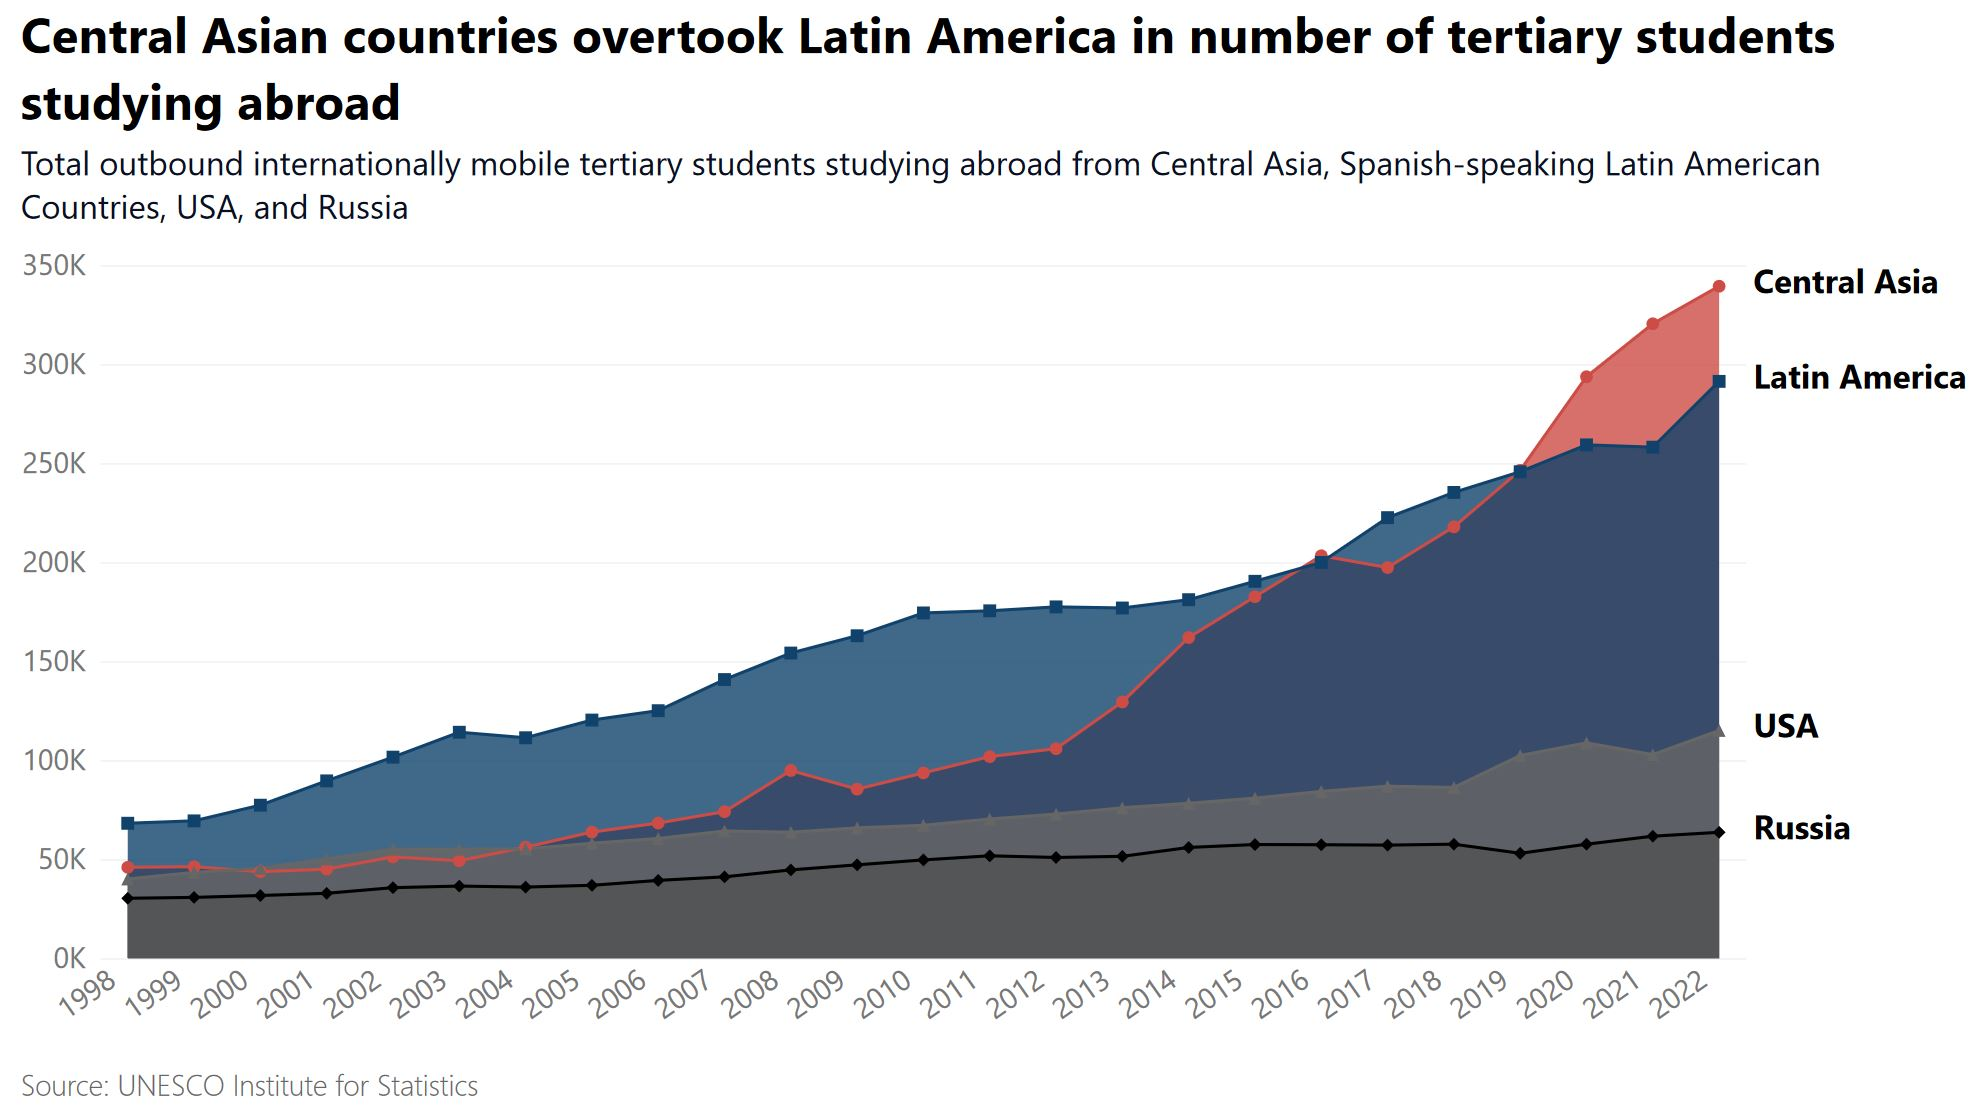

Layout of this report page (visuals, bound fields, positions):
{"tool":"powerbi","page":{"name":"Page 1","canvas":[1280,720],"ordinal":0},"visuals":[{"type":"lineChart","title":"Central Asian countries overtook Latin America in number of tertiary students studying abroad","fields":{"Category":["Table1.Year"],"Series":["Table1.Region"],"Y":["Sum(Table1.Value)"]},"box":[9.1,0,1270.9,684],"z":0},{"type":"textbox","box":[9.1,684,544.5,36.4],"z":1}]}

Visuals, with their boxes in screenshot pixels (x1, y1, x2, y2), scaled from the page's 1280x720 canvas onto the 1979x1112 screenshot:
"Central Asian countries overtook Latin America in number of tertiary students studying abroad" lineChart: region(14, 0, 1978, 1056)
textbox: region(14, 1056, 856, 1111)
